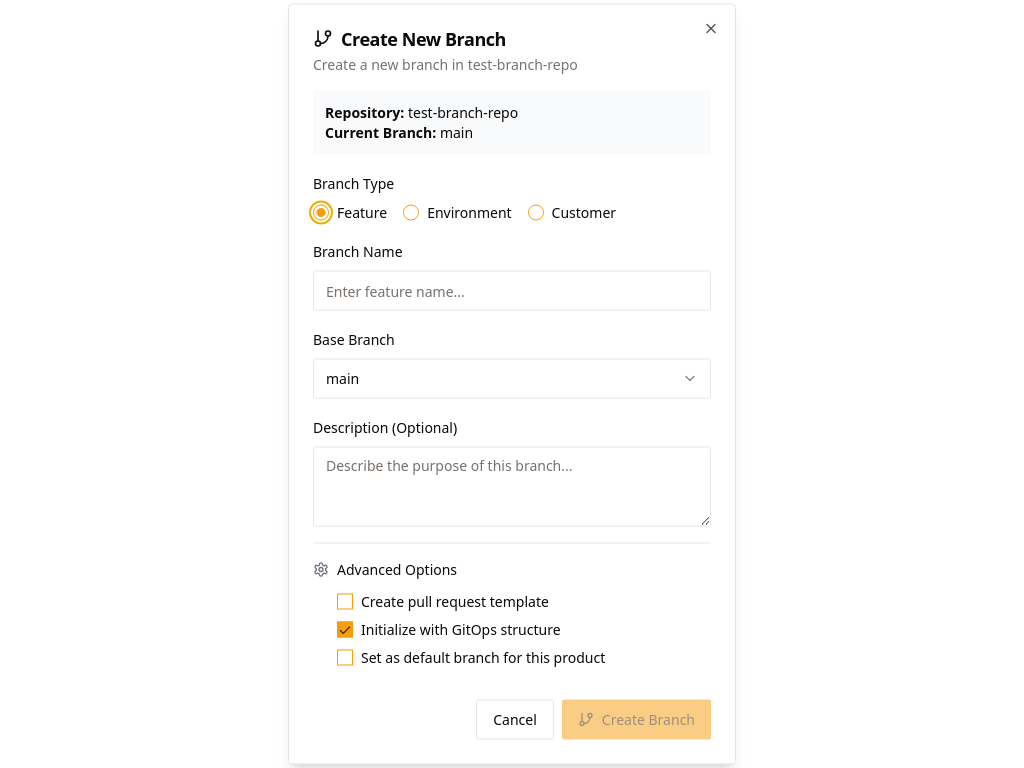
Test: BranchManagementDialog › generates branch name based on type and input
In the field with placeholder "Enter feature name...": coordinates (512, 290) [313,270,711,310], type "new-feature"
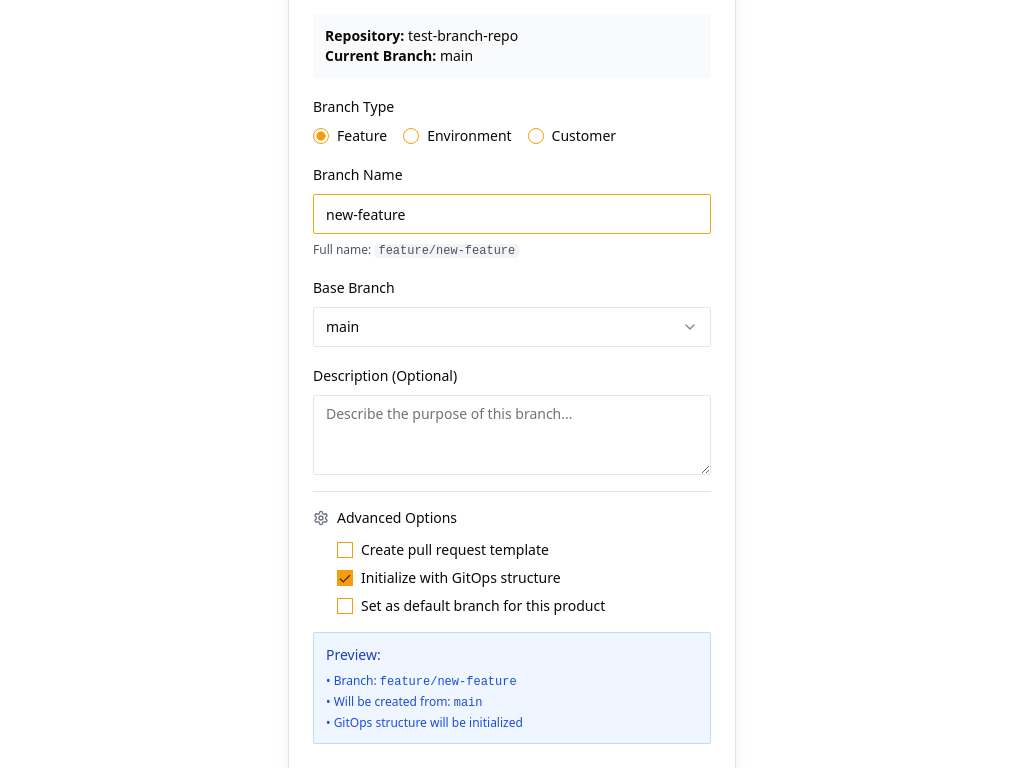
expect the text "feature/new-feature" next to "Full name:" is shown: met, box [378,244,515,258]
